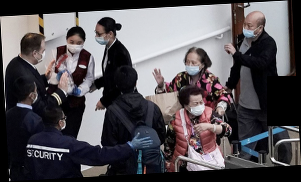with_mask: (188, 97, 206, 118), (66, 37, 85, 54), (184, 57, 200, 76), (94, 28, 109, 47), (242, 19, 257, 38), (35, 46, 47, 65), (30, 86, 39, 103), (60, 114, 68, 130)
